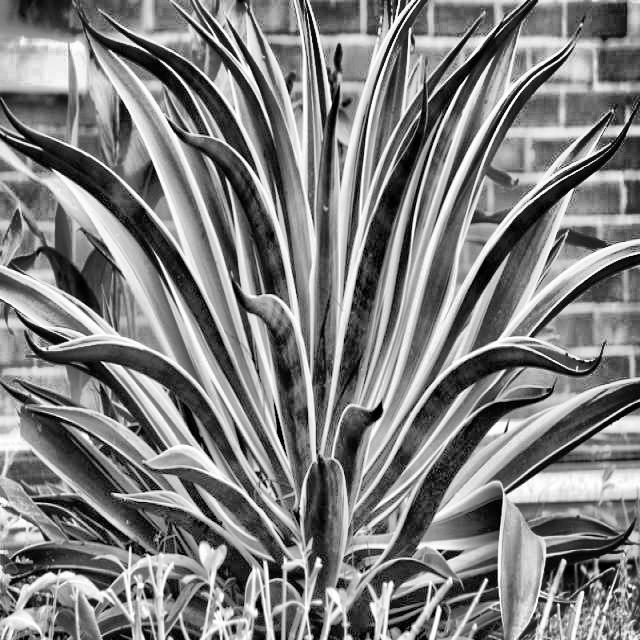plants: (42, 72, 580, 595)
